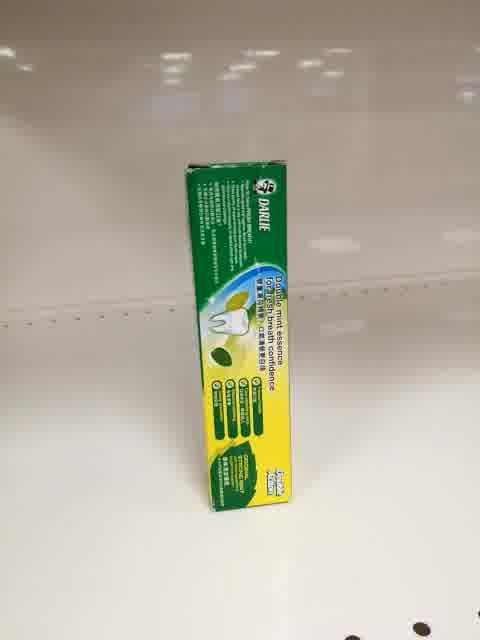toothpaste: (185, 162, 293, 512)
